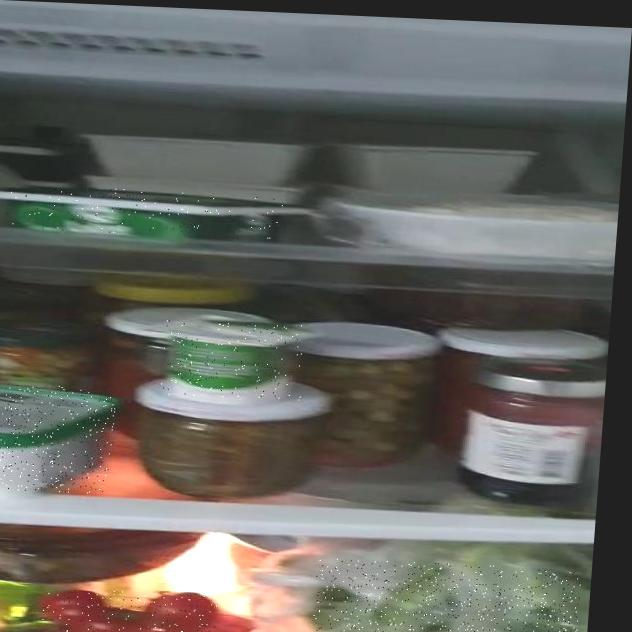cheese: (0, 382, 116, 495)
cream cheese: (0, 183, 283, 241)
lettuce: (310, 558, 583, 632)
tomato: (40, 588, 218, 632)
yoghurt: (160, 319, 306, 401)
